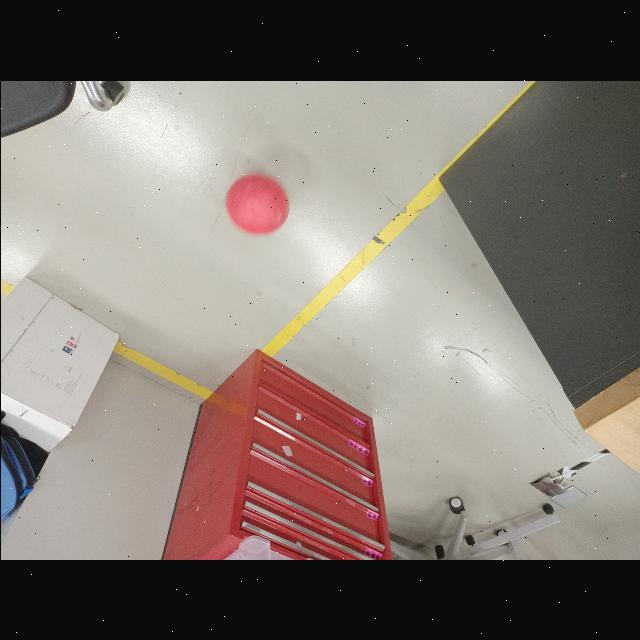R: (226, 171, 288, 235)
